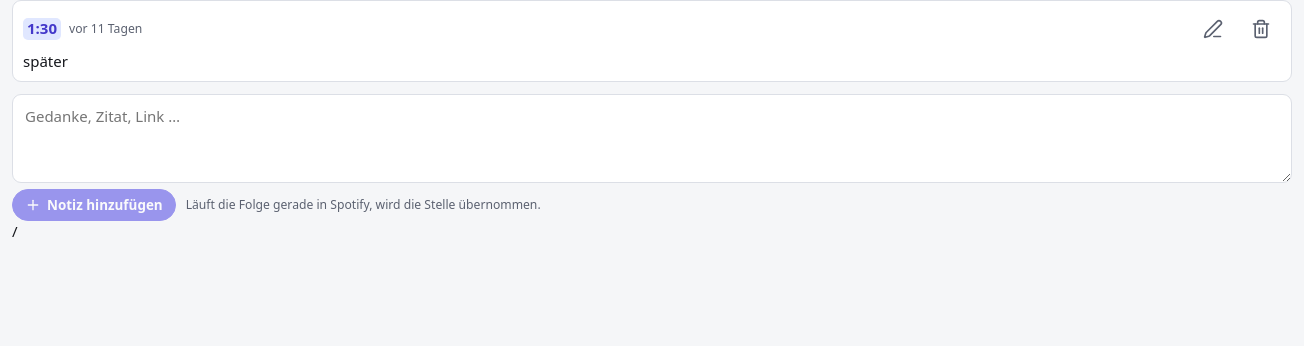
Test case: EpisodeNotes › adds a note and leaves its position to the server when the episode does not play in the browser
The image size is (1304, 346).
Check: the text "später" is shown, box [23,51,68,71]
Check: the text "Läuft die Folge gerade in Spotify, wird die Stelle übernommen." is shown, box [186,196,541,214]
Type "Neuer Gedanke" into the text box with placeholder "Gedanke, Zitat, Link …" at (652, 139), box [12,94,1292,183]
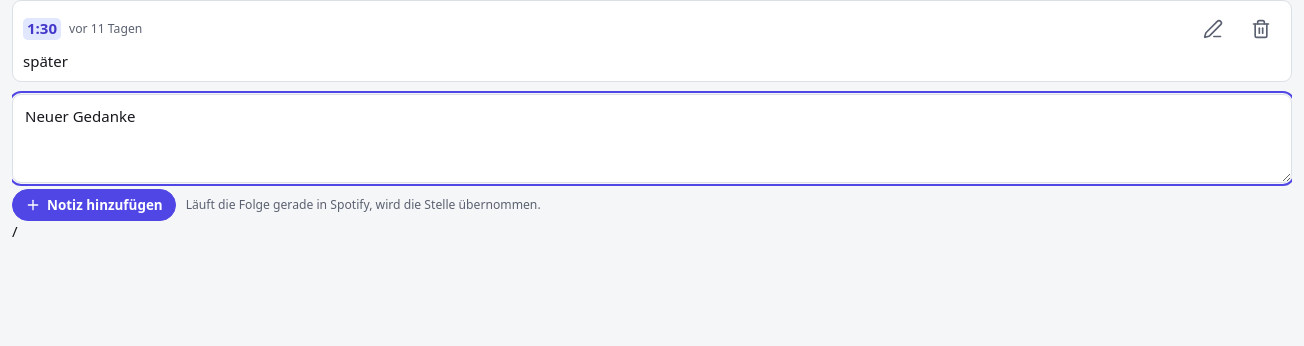
Click the button "Notiz hinzufügen" at (94, 205), box [12,189,176,221]
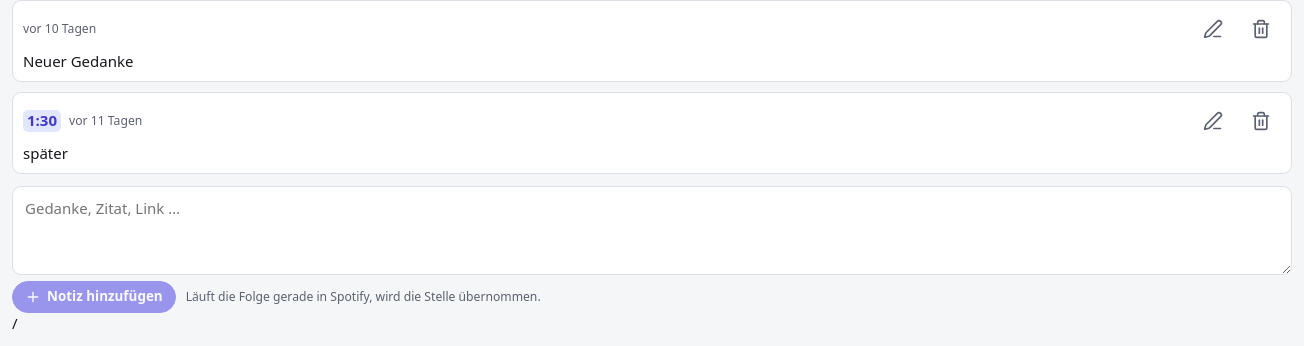
Check: the text "Neuer Gedanke" is shown, box [23,51,134,71]
Check: the text box named "Neue Notiz" is empty, box [12,186,1292,275]
